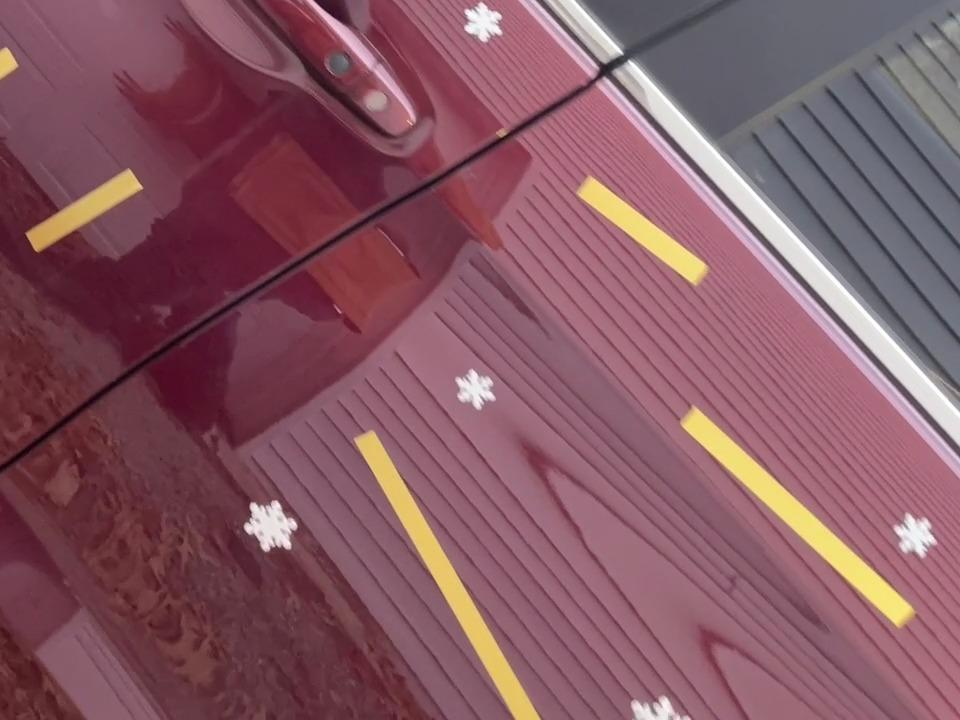dent: (229, 489, 310, 569), (452, 0, 516, 56), (444, 364, 510, 415), (885, 503, 941, 561)
scratch: (669, 389, 931, 633), (351, 421, 559, 720), (571, 164, 715, 295), (19, 154, 147, 261), (0, 38, 24, 103)
